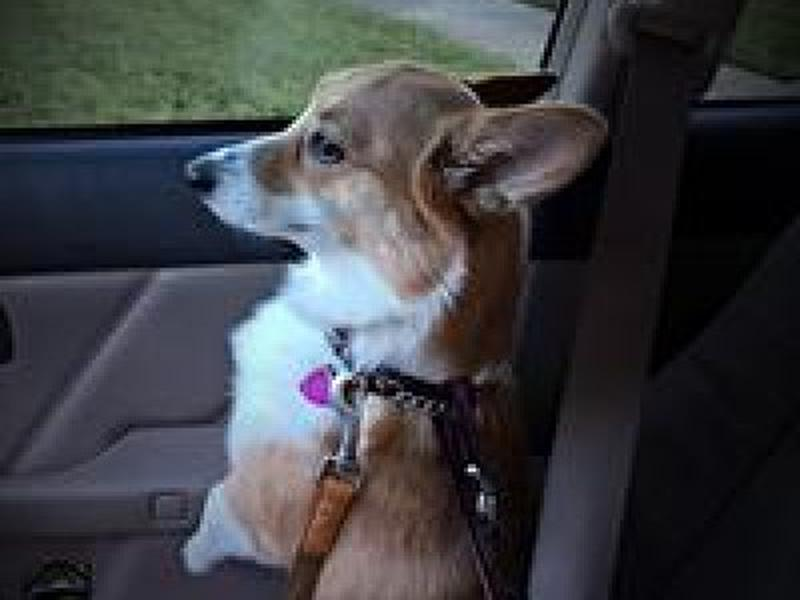corgi: (184, 59, 612, 258)
